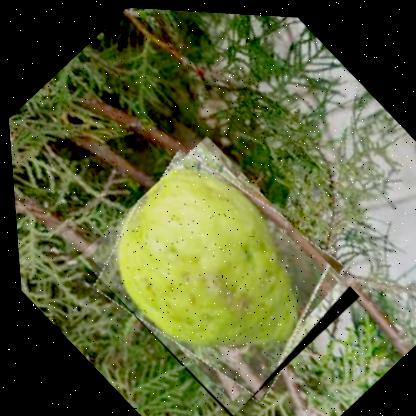guava: (66, 125, 365, 415)
